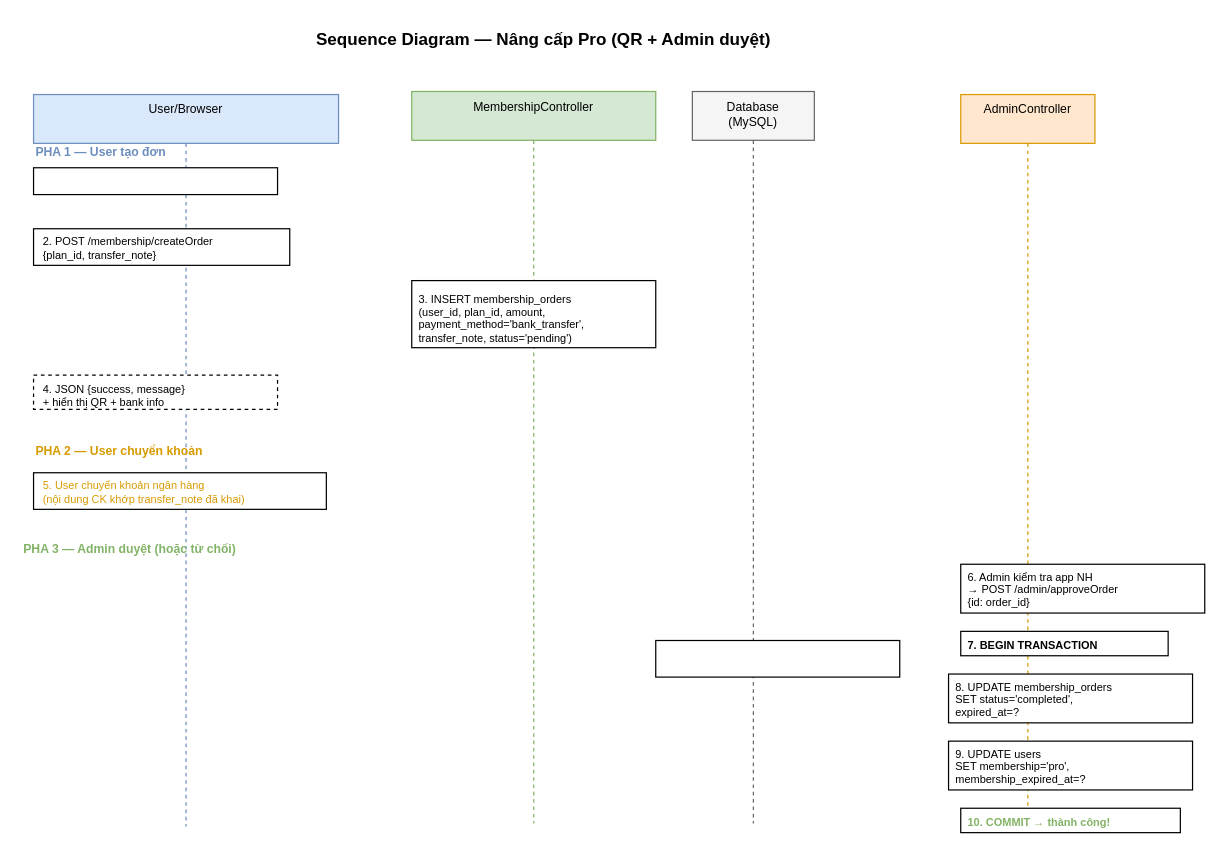
The diagram is 1226 pixels wide and 854 high, and some of its shapes have lost their labels. The centre of each missing label's shape, as x and y in pixels:
1. User vào trang Pro, chọn gói: the point at 155,181
6b. POST /admin/rejectOrder → UPDATE status='cancelled': the point at 777,658
